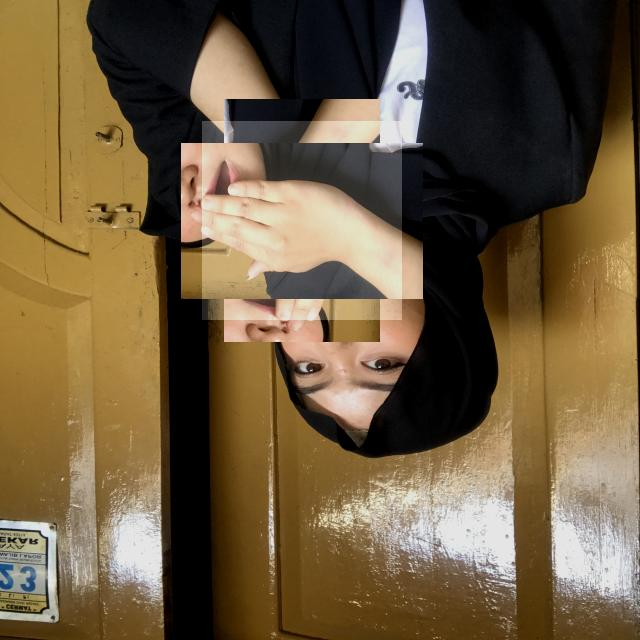ngantuk: (202, 121, 402, 320)
